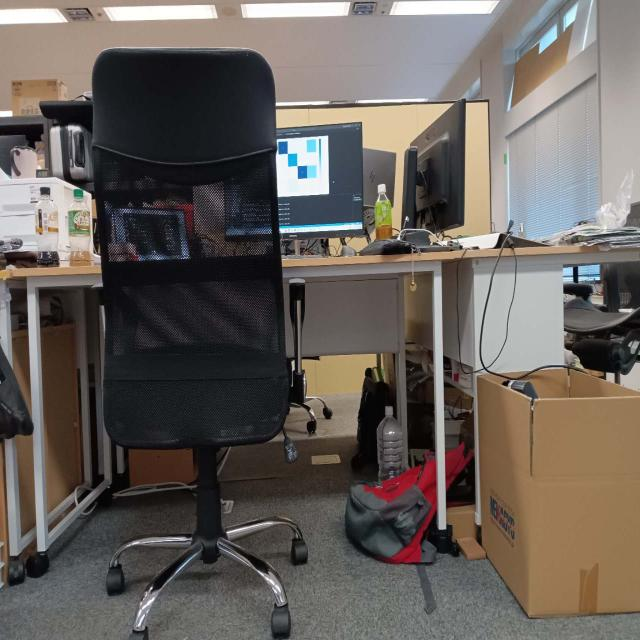box: (480, 366, 640, 618)
